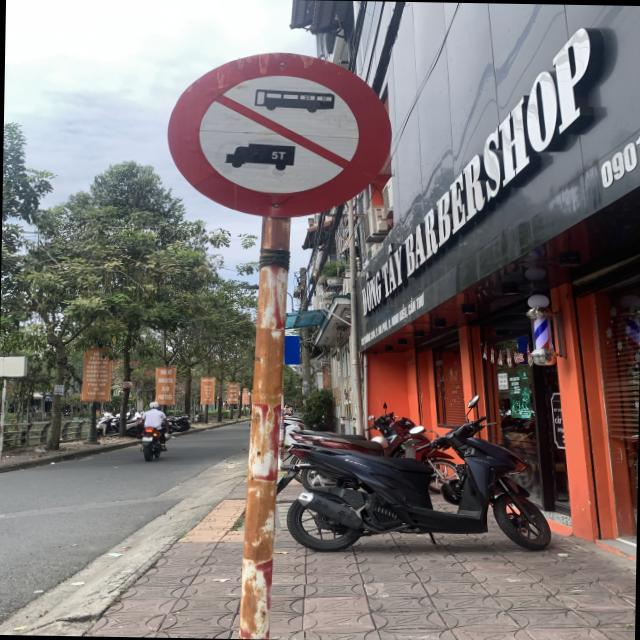Cam_XeTai_XeKhach: (166, 50, 397, 218)
